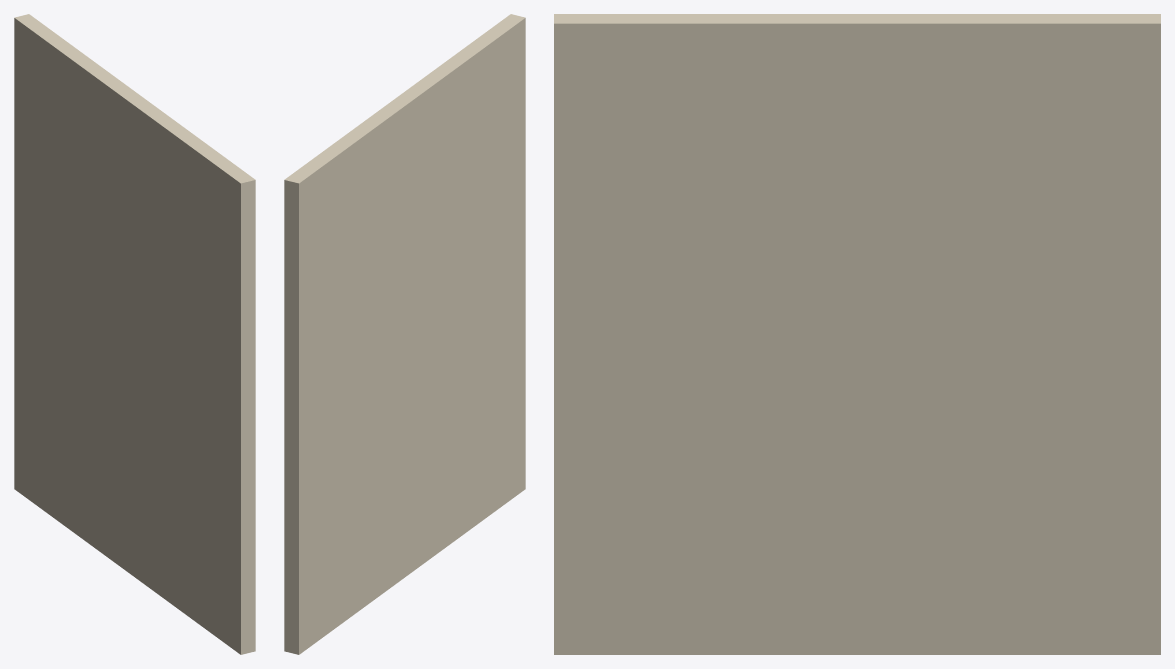
The picture shows the model from 3 angles, left to right: view 1: azimuth 30°, elevation 25°; view 2: azimuth 150°, elevation 25°; view 3: azimuth 270°, elevation 25°; orthographic projection. The views are drawn at different scales.
Parts seen in each view (by area): view 1: A-GF-WALL-030; view 2: A-GF-WALL-030; view 3: A-GF-WALL-030.
Boxes of the visible parts, box(x1,y1,x2,y2) form: A-GF-WALL-030: box(14, 14, 255, 654); A-GF-WALL-030: box(284, 14, 525, 654); A-GF-WALL-030: box(554, 14, 1160, 654).
Size of the model in its own units: 0.09 by 2.72 by 2.37.
